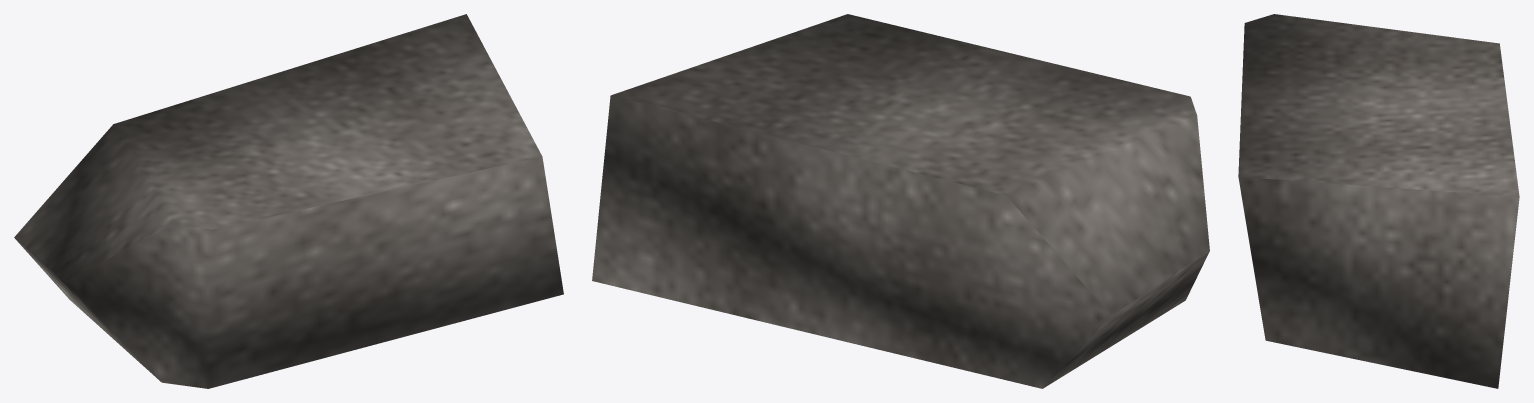
File: cliff_strata_0.glb
3 views of the same model, side by side, from view 1: azimuth 30°, elevation 25°; view 2: azimuth 150°, elevation 25°; view 3: azimuth 270°, elevation 25° (orthographic). The views are drawn at different scales.
Visible parts, largest first — view 1: cliff_strata_0; view 2: cliff_strata_0; view 3: cliff_strata_0.
Part boxes in pixels (x1=…): cliff_strata_0: x1=14, y1=14, x2=563, y2=388; cliff_strata_0: x1=592, y1=14, x2=1209, y2=388; cliff_strata_0: x1=1238, y1=14, x2=1519, y2=388.
Bounding box in the file's own units: 4.27 × 1.52 × 2.16.
1 material, 1 textured.
